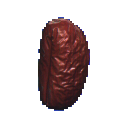ng: (29, 13, 98, 120)
